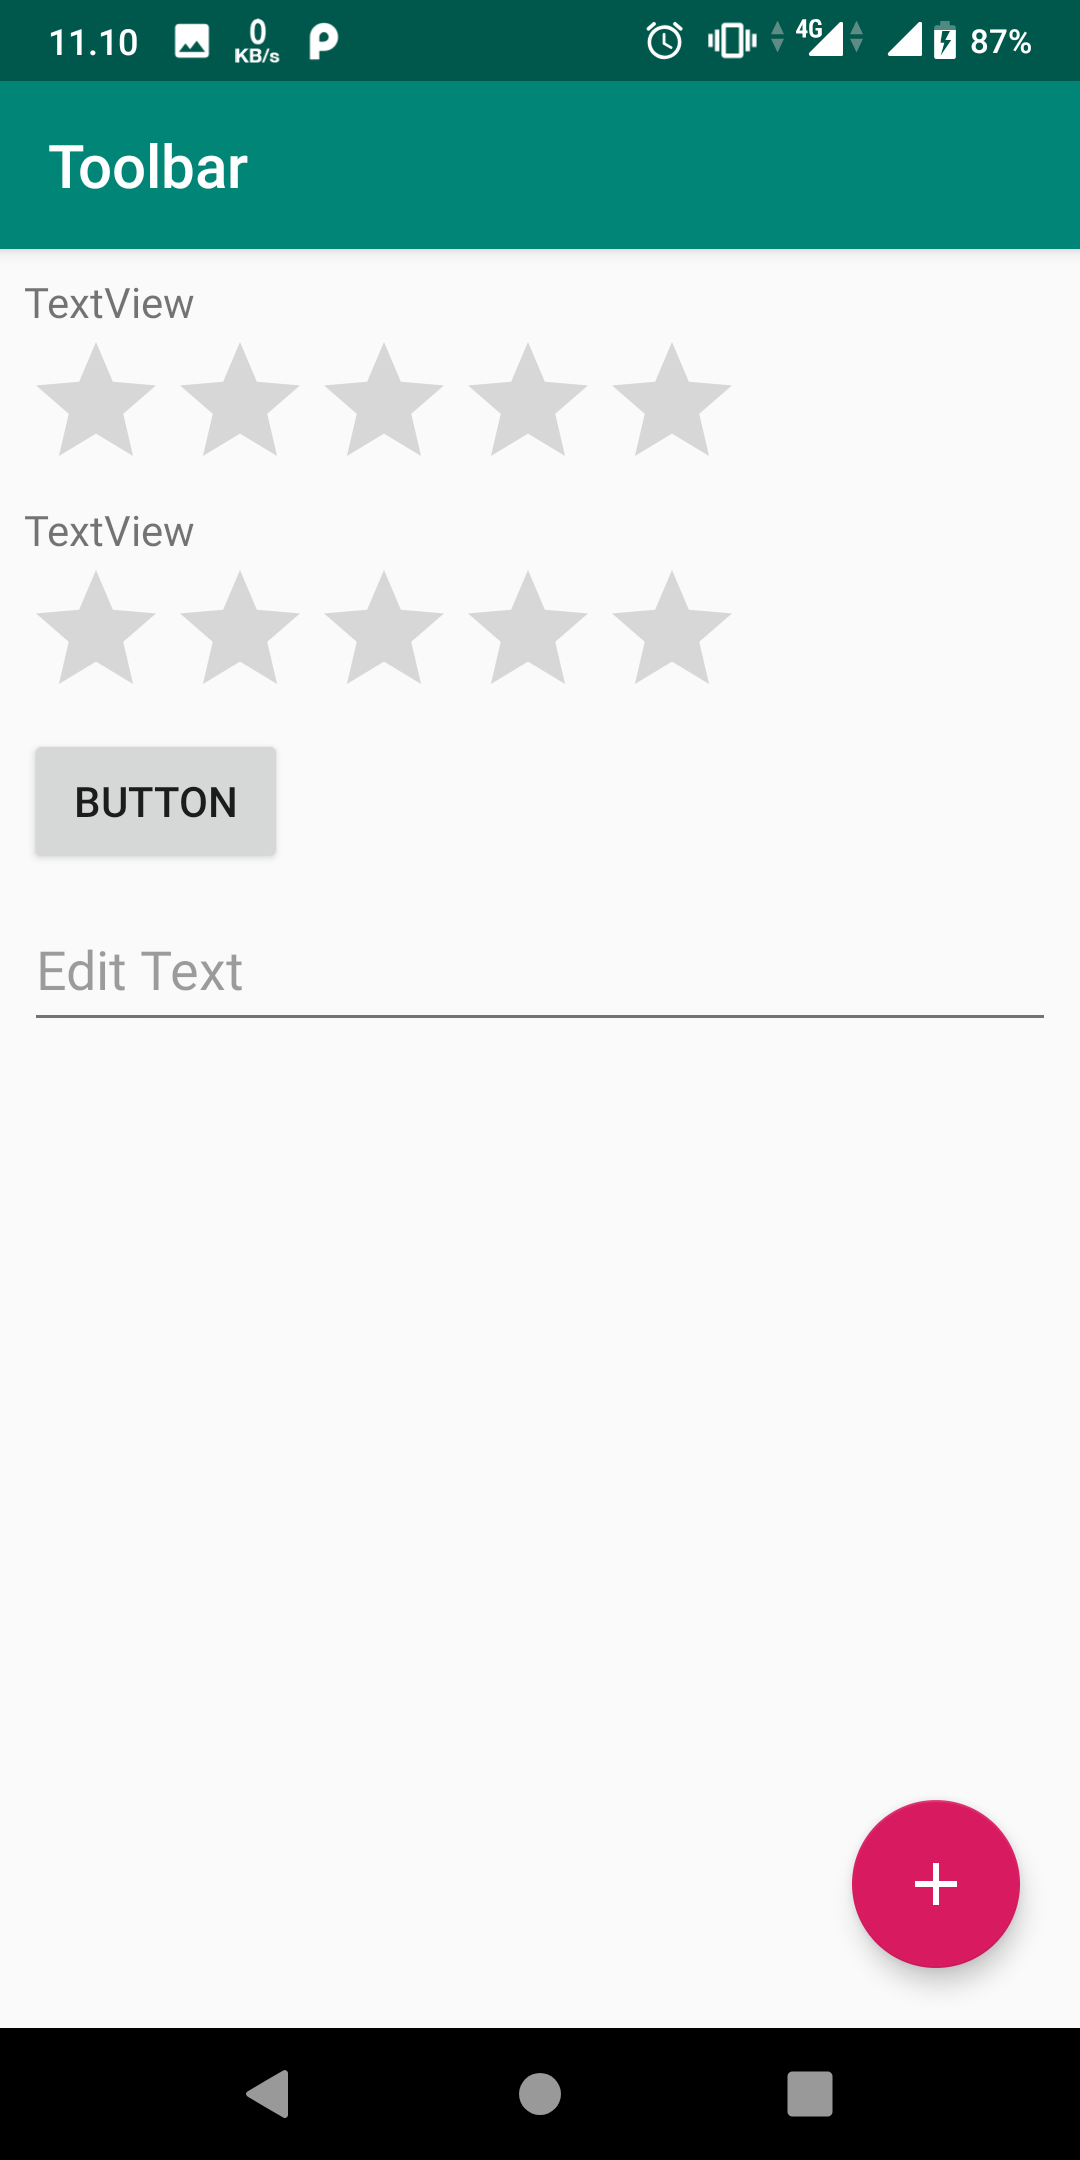button: (28, 736, 291, 871)
editText: (15, 928, 1057, 1048)
floatingButton: (842, 1783, 1035, 1973)
ratingBar: (22, 568, 767, 712), (19, 337, 738, 470)
textView: (19, 496, 209, 561), (22, 273, 202, 335)
toolbar: (6, 80, 1080, 248)
